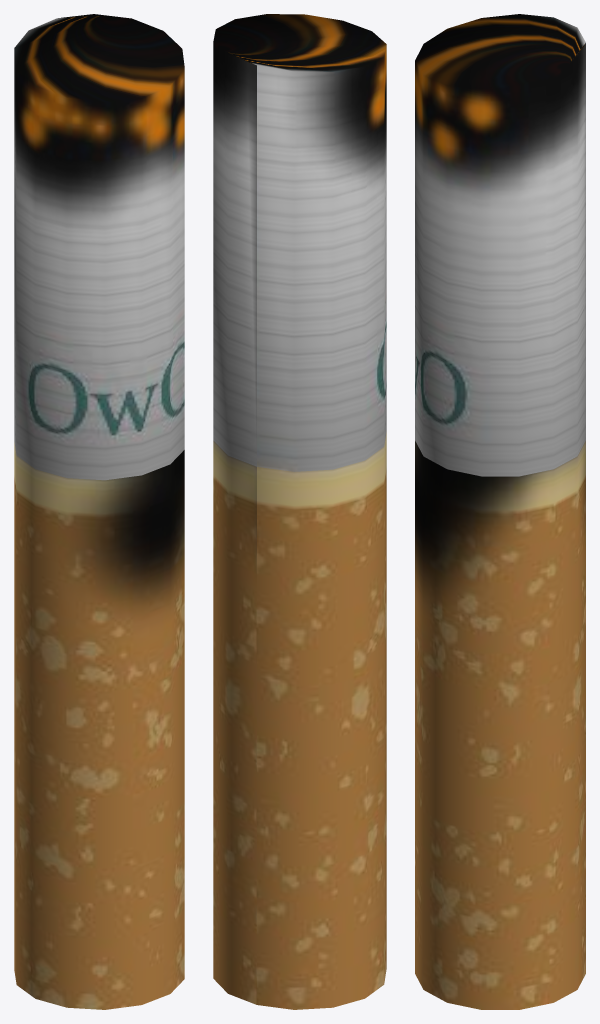
3 renders of one model, left to right at view 1: azimuth 30°, elevation 25°; view 2: azimuth 150°, elevation 25°; view 3: azimuth 270°, elevation 25°, orthographic.
Visible parts, largest first — view 1: Ciggy; view 2: Ciggy; view 3: Ciggy.
Part boxes in pixels (left/top/right/bottom): Ciggy: left=14, top=14, right=184, bottom=1009; Ciggy: left=213, top=14, right=386, bottom=1009; Ciggy: left=415, top=14, right=585, bottom=1009.
Bounding box in the file's own units: 18.51 × 111 × 18.51.
